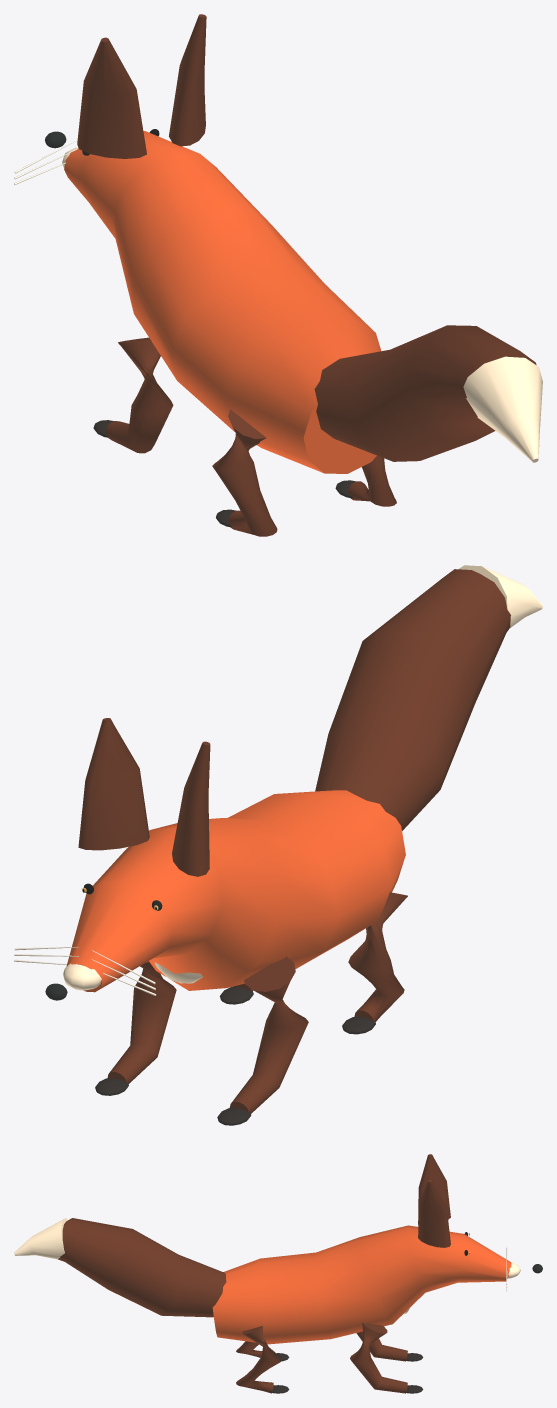
Rendered from fox_hero.glb.
3 views of the same model, one above another, from view 1: azimuth 30°, elevation 25°; view 2: azimuth 150°, elevation 25°; view 3: azimuth 270°, elevation 25° (orthographic). The views are drawn at different scales.
Parts seen in each view (by area): view 1: FoxOrganicBody, Tail, Ear, TailTip, Leg_LH, Leg_LF, Ear2, Leg_RH; view 2: FoxOrganicBody, Tail, Ear2, Leg_LF, Leg_RF, Ear, Leg_LH, TailTip, Muzzle; view 3: FoxOrganicBody, Tail, Ear2, Leg_RF, Leg_RH, TailTip, Ear, Leg_LF.
Part boxes in pixels (bbox=[...]): FoxOrganicBody: bbox=[64, 131, 381, 473]; Tail: bbox=[314, 325, 536, 461]; Ear: bbox=[77, 37, 146, 158]; TailTip: bbox=[463, 356, 542, 462]; Leg_LH: bbox=[212, 409, 277, 536]; Leg_LF: bbox=[105, 337, 173, 453]; Ear2: bbox=[169, 14, 206, 146]; Leg_RH: bbox=[348, 455, 396, 506]; FoxOrganicBody: bbox=[66, 790, 405, 992]; Tail: bbox=[315, 569, 510, 830]; Ear2: bbox=[78, 718, 149, 850]; Leg_LF: bbox=[229, 956, 308, 1113]; Leg_RF: bbox=[107, 961, 176, 1083]; Ear: bbox=[172, 741, 210, 876]; Leg_LH: bbox=[348, 892, 407, 1021]; TailTip: bbox=[458, 565, 542, 627]; Muzzle: bbox=[63, 963, 101, 990]; FoxOrganicBody: bbox=[212, 1225, 511, 1344]; Tail: bbox=[58, 1218, 226, 1317]; Ear2: bbox=[418, 1180, 450, 1247]; Leg_RF: bbox=[350, 1322, 407, 1393]; Leg_RH: bbox=[236, 1326, 282, 1393]; TailTip: bbox=[14, 1218, 67, 1259]; Ear: bbox=[418, 1154, 450, 1224]; Leg_LF: bbox=[356, 1331, 407, 1361].
Bounding box in the file's own units: 1.06 × 2.31 × 5.28.
